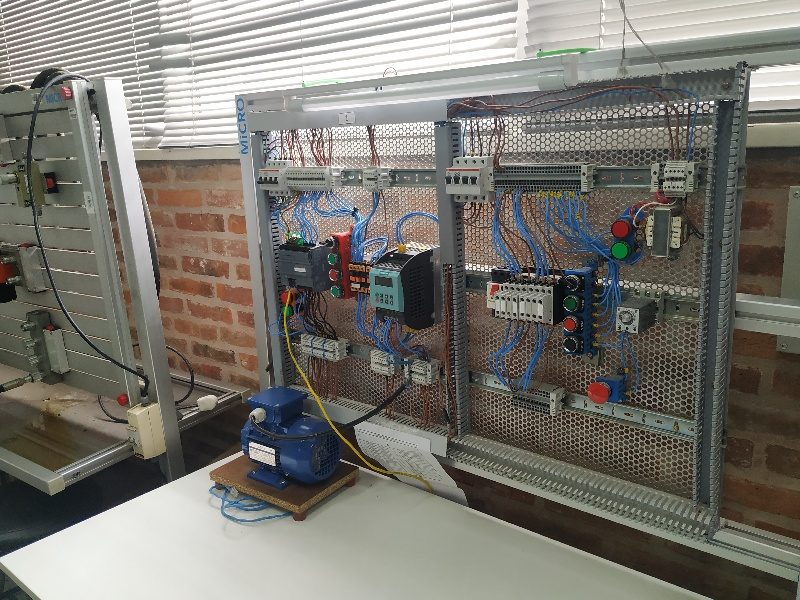Tablero 1: (245, 123, 717, 489)
